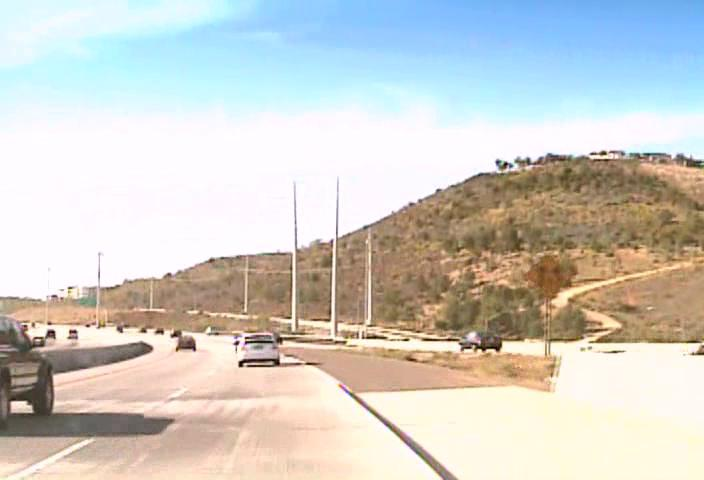addedLane: (524, 250, 572, 299)
